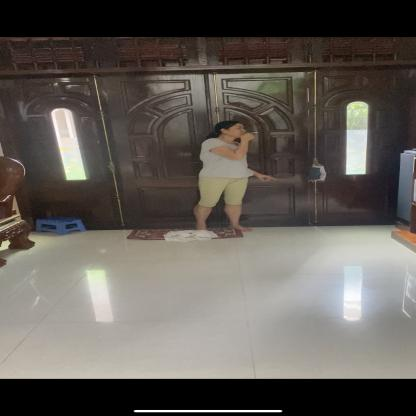cigarette: (249, 131, 260, 134)
person: (195, 120, 274, 235)
